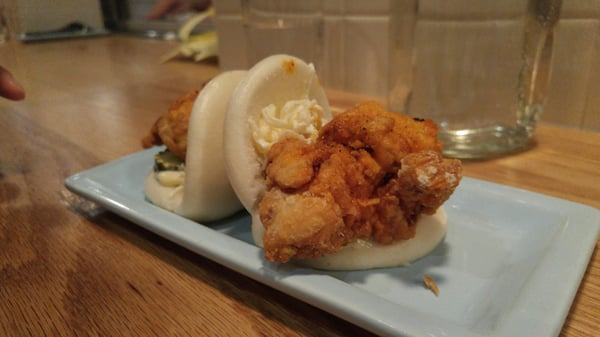pizza: (405, 2, 564, 160), (214, 3, 326, 81)
